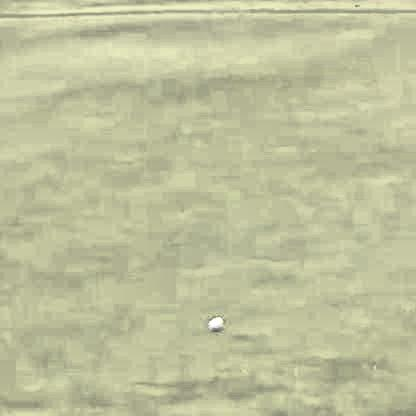golfball: (206, 313, 220, 328)
